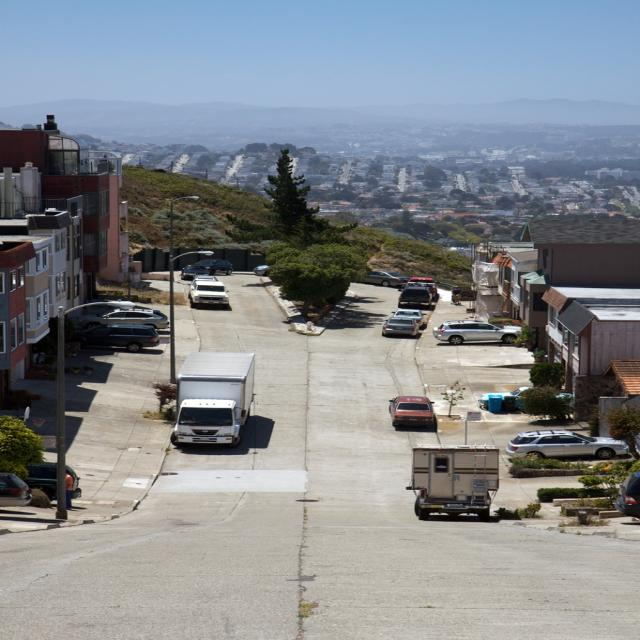car: (510, 427, 638, 464), (430, 319, 525, 341), (388, 394, 437, 428), (104, 324, 159, 350), (387, 314, 421, 338)
